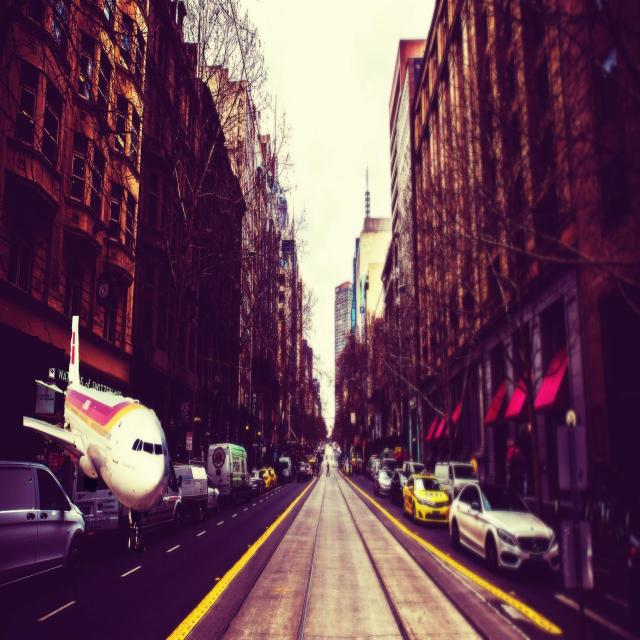airplane: (22, 314, 172, 552)
